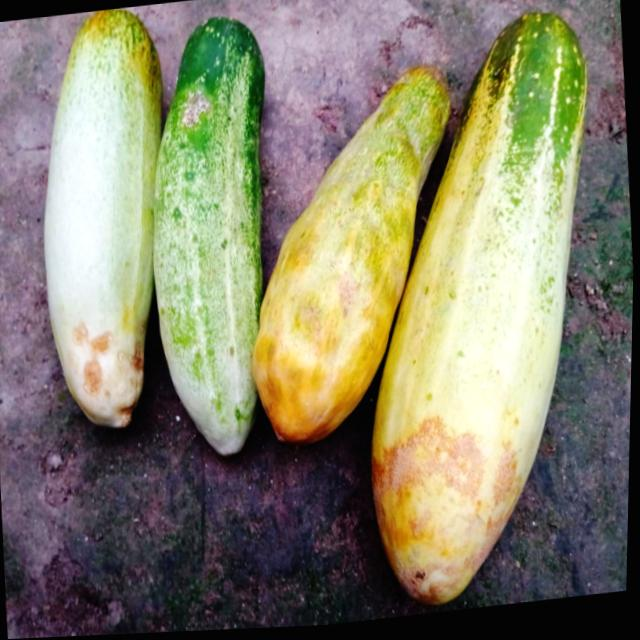Belly-Rot: (362, 406, 533, 605), (69, 315, 149, 425)
